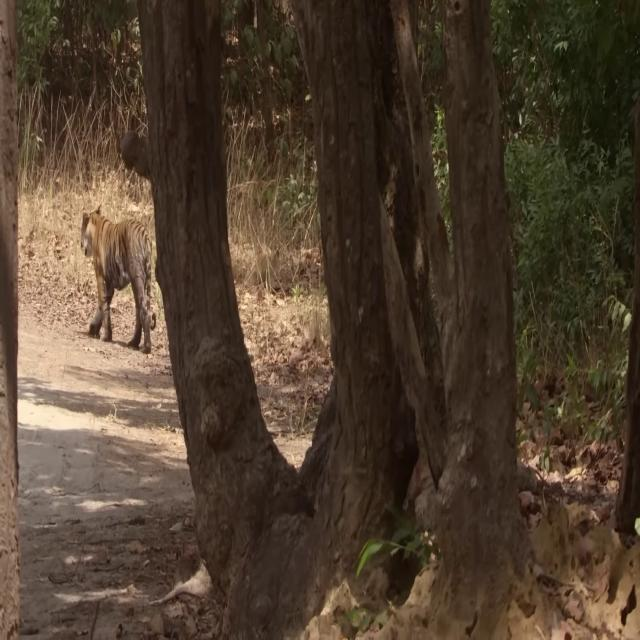tiger: (80, 203, 156, 354)
